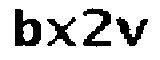2: (81, 5, 115, 50)
b: (11, 5, 43, 48)
v: (114, 14, 152, 49)
x: (44, 16, 79, 49)
